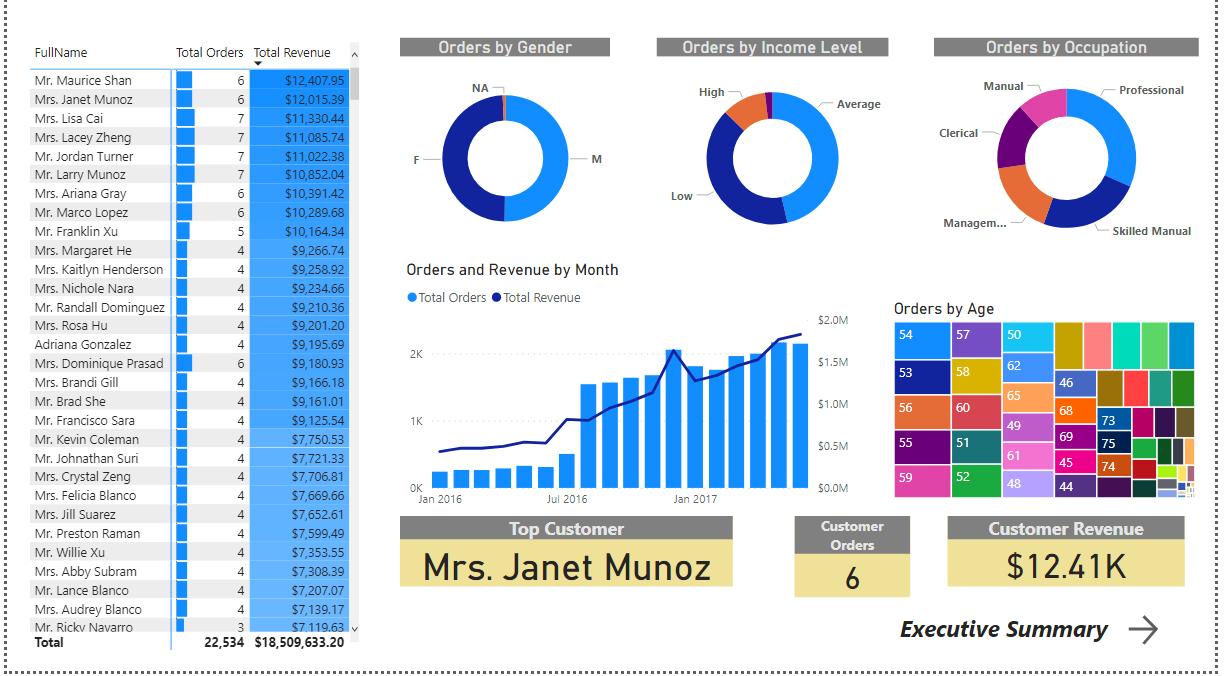

This screenshot's page, from the dashboard's own definition file:
{"tool":"powerbi","page":{"name":"Customer Detail","canvas":[1280,720],"ordinal":2},"visuals":[{"type":"pivotTable","fields":{"Values":["AW_Sales.Total Orders","AW_Sales.Total Revenue"],"Rows":["AW_Customers_Lookup.FullName"]},"box":[19.5,48.7,359,654.6],"z":0},{"type":"donutChart","title":"Orders by Gender","fields":{"Category":["AW_Customers_Lookup.Gender"],"Y":["AW_Sales.Total Orders"]},"box":[417,49.5,223,235.4],"z":1000},{"type":"donutChart","title":"Orders by Income Level","fields":{"Category":["AW_Customers_Lookup.IncomeLevel"],"Y":["AW_Sales.Total Orders"]},"box":[688.5,49.5,245.7,235.4],"z":2000},{"type":"donutChart","title":"Orders by Occupation","fields":{"Y":["AW_Sales.Total Orders"],"Category":["AW_Customers_Lookup.Occupation"]},"box":[982.7,49.5,280.8,235.4],"z":3000},{"type":"lineClusteredColumnComboChart","title":"Orders and Revenue by Month","fields":{"Category":["AW_Calendar_Lookup.Start of Month"],"Y":["AW_Sales.Total Orders"],"Y2":["AW_Sales.Total Revenue"]},"box":[417.5,284.3,479.2,272.9],"z":4000},{"type":"treemap","title":"Orders by Age","fields":{"Values":["AW_Sales.Total Orders"],"Group":["AW_Customers_Lookup.Current Age"]},"box":[934.6,325.8,329,216.2],"z":5000},{"type":"card","title":"Top Customer","fields":{"Values":["AW_Customers_Lookup.FullName"]},"box":[416.4,556.3,352.8,74.7],"z":6000},{"type":"card","title":"Customer Orders","fields":{"Values":["AW_Sales.Total Orders"]},"box":[834.4,556.3,122.4,74.7],"z":7000},{"type":"card","title":"Customer Revenue","fields":{"Values":["AW_Sales.Total Revenue"]},"box":[996.6,556.3,251.1,74.7],"z":8000},{"type":"textbox","box":[940.9,653.2,241.6,50.9],"z":9000},{"type":"actionButton","box":[1182.5,656.4,65.2,41.3],"z":10000}]}

Visuals, with their boxes in screenshot pixels (x1, y1, x2, y2), scaled from the page's 1280x720 canvas onto the 1224x676 screenshot:
pivotTable - AW_Sales.Total Orders x AW_Sales.Total Revenue: bbox=[19, 46, 362, 660]
"Orders by Gender" donutChart: bbox=[399, 46, 612, 267]
"Orders by Income Level" donutChart: bbox=[658, 46, 893, 267]
"Orders by Occupation" donutChart: bbox=[940, 46, 1208, 267]
"Orders and Revenue by Month" lineClusteredColumnComboChart: bbox=[399, 267, 857, 523]
"Orders by Age" treemap: bbox=[894, 306, 1208, 509]
"Top Customer" card: bbox=[398, 522, 736, 592]
"Customer Orders" card: bbox=[798, 522, 915, 592]
"Customer Revenue" card: bbox=[953, 522, 1193, 592]
textbox: bbox=[900, 613, 1131, 661]
actionButton: bbox=[1131, 616, 1193, 655]
